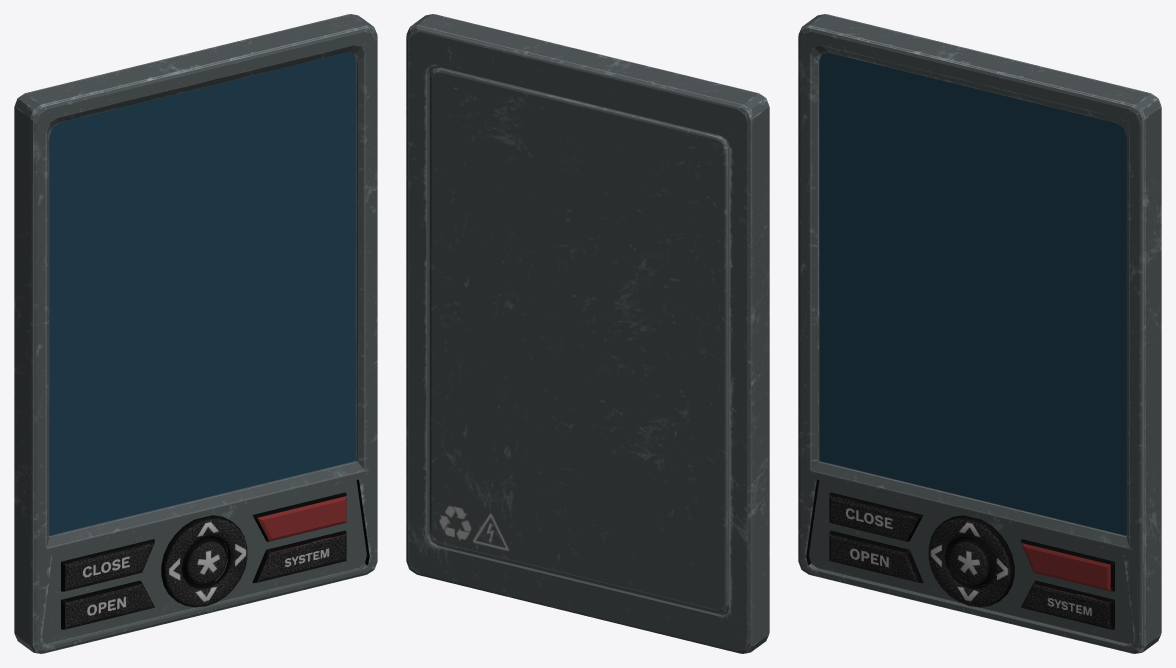
Rendered from pda textures.fbx.
3 views of the same model, side by side, from view 1: azimuth 30°, elevation 25°; view 2: azimuth 150°, elevation 25°; view 3: azimuth 330°, elevation 25° (orthographic).
Visible parts, largest first — view 1: pda; view 2: pda; view 3: pda.
Part boxes in pixels (x1,y1,x2,y2): pda: (14,14,377,653); pda: (406,14,769,653); pda: (798,14,1161,653).
Size of the model in its own units: 132 by 200 by 14.37.
Materials: 1 (1 with a texture image).
